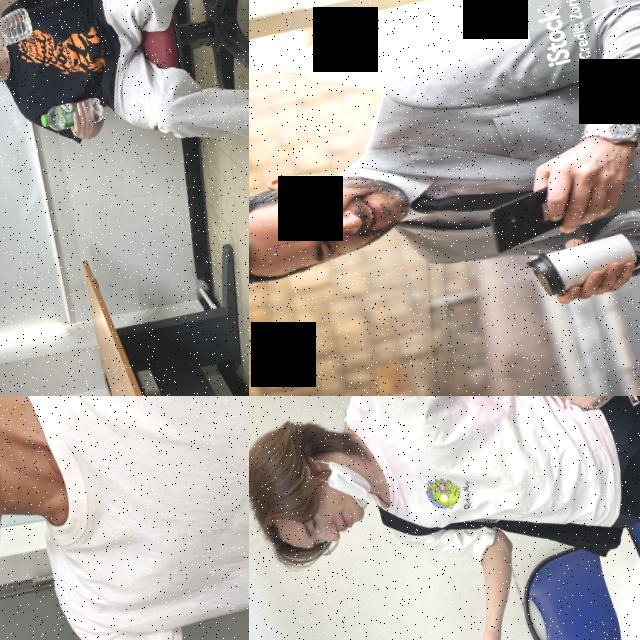bottle: (38, 92, 105, 135), (0, 6, 36, 62)
cup: (521, 226, 640, 302)
